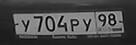license-plateSW: (13, 11, 124, 36)
